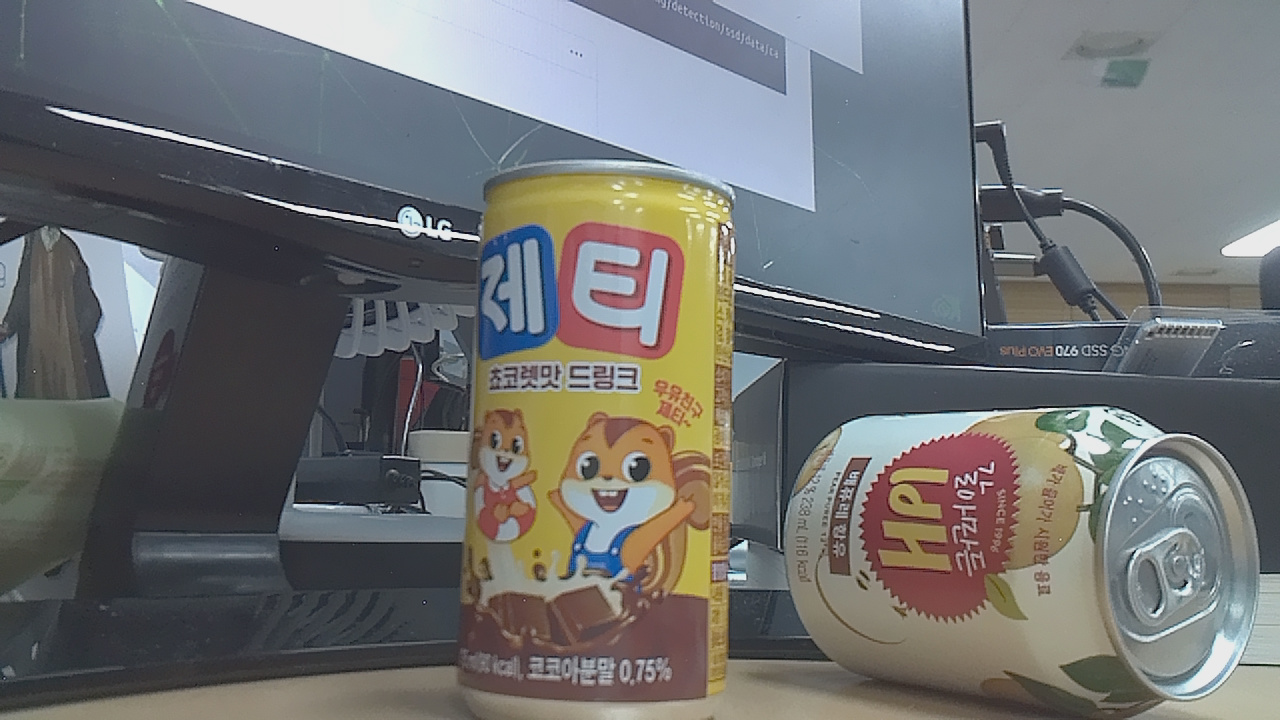IdH (pear juice): (780, 401, 1275, 720)
jetty: (442, 158, 745, 720)
